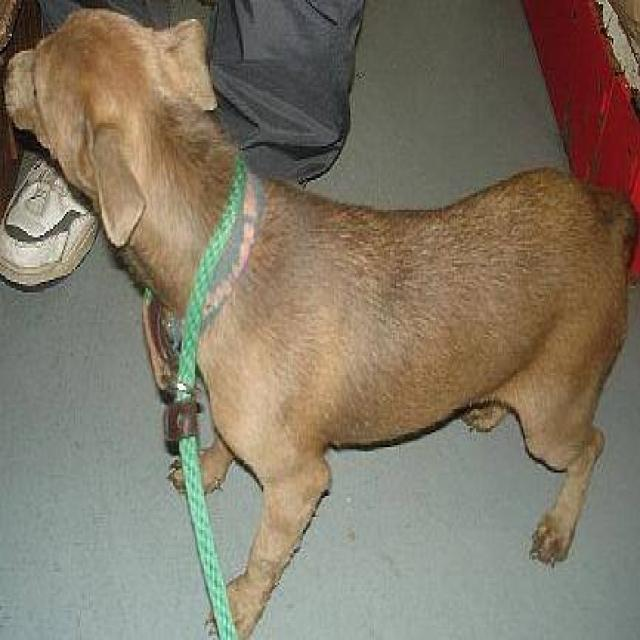dog: (3, 6, 636, 638)
